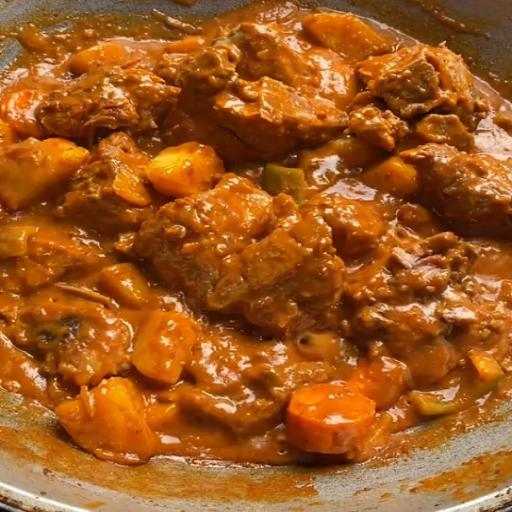pork caldereta: (0, 9, 511, 453)
